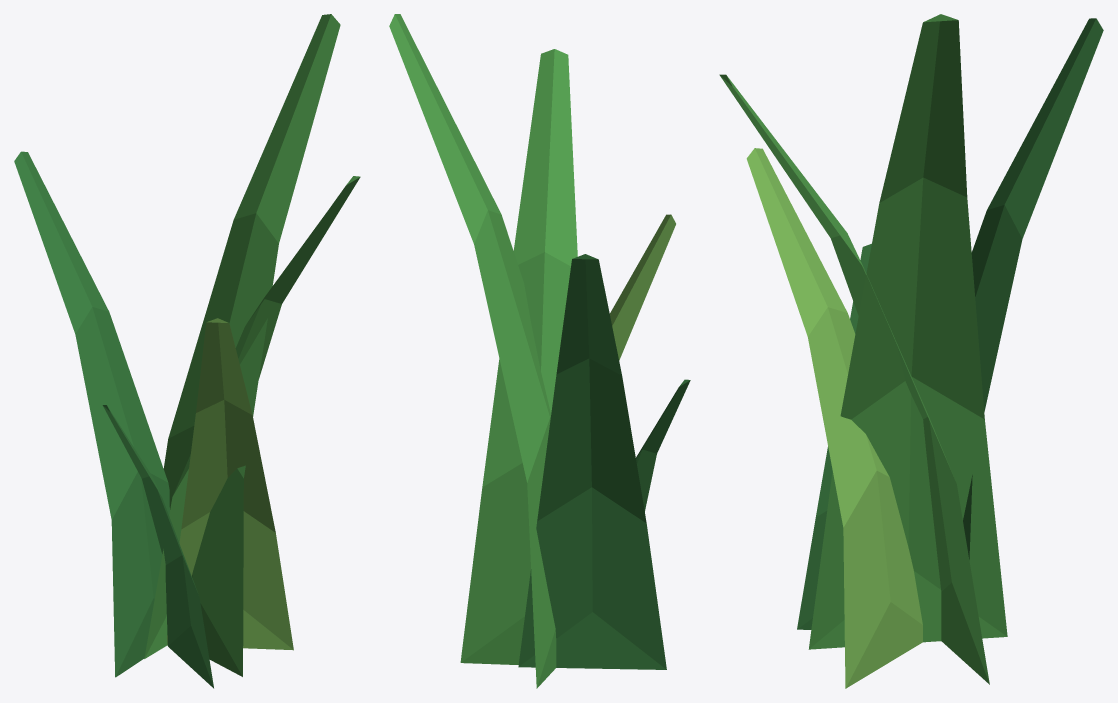
File: grass-blade-HskW7sY2.glb
3 views of the same model, side by side, from view 1: azimuth 30°, elevation 25°; view 2: azimuth 150°, elevation 25°; view 3: azimuth 270°, elevation 25° (orthographic). The views are drawn at different scales.
Parts seen in each view (by area): view 1: GrassBlade; view 2: GrassBlade; view 3: GrassBlade.
Part boxes in pixels (x1,y1,x2,y2): GrassBlade: (14,14,360,688); GrassBlade: (389,14,690,688); GrassBlade: (719,14,1103,688).
Bounding box in the file's own units: 0.0835 × 0.1818 × 0.0879.
